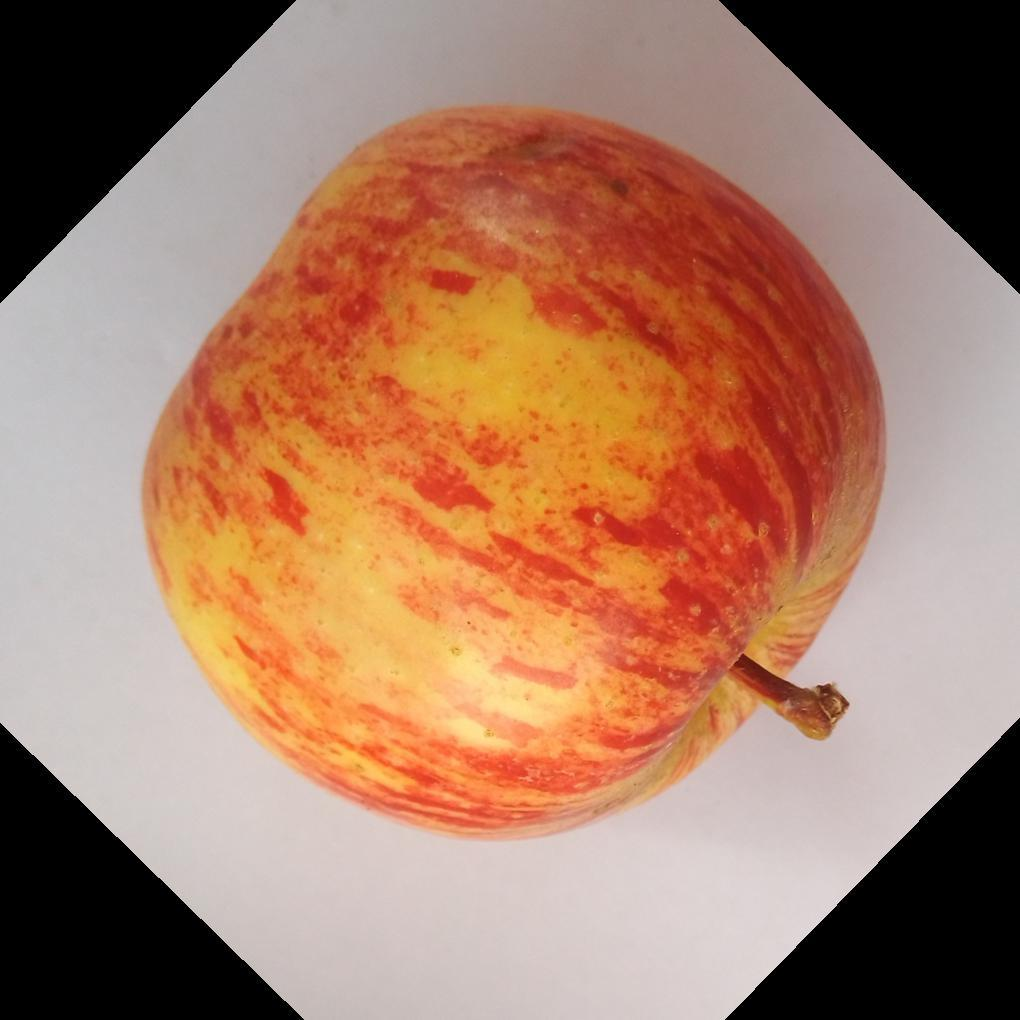FreshGuava: (137, 105, 889, 845)
